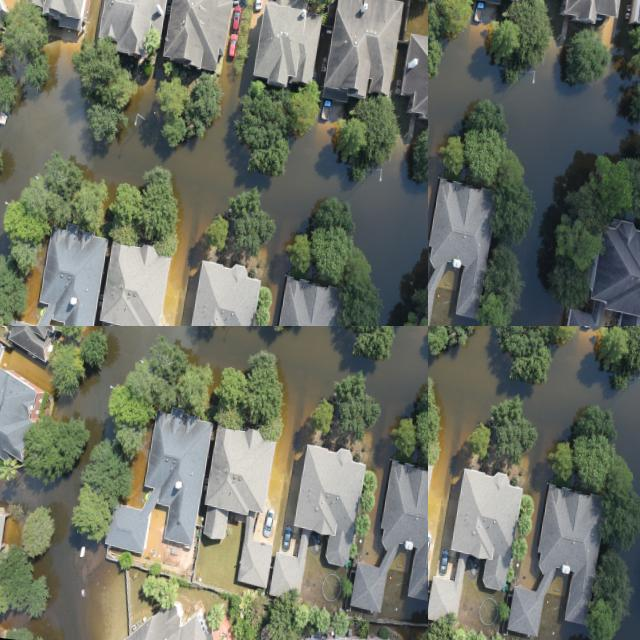fire: (428, 326, 640, 586)
